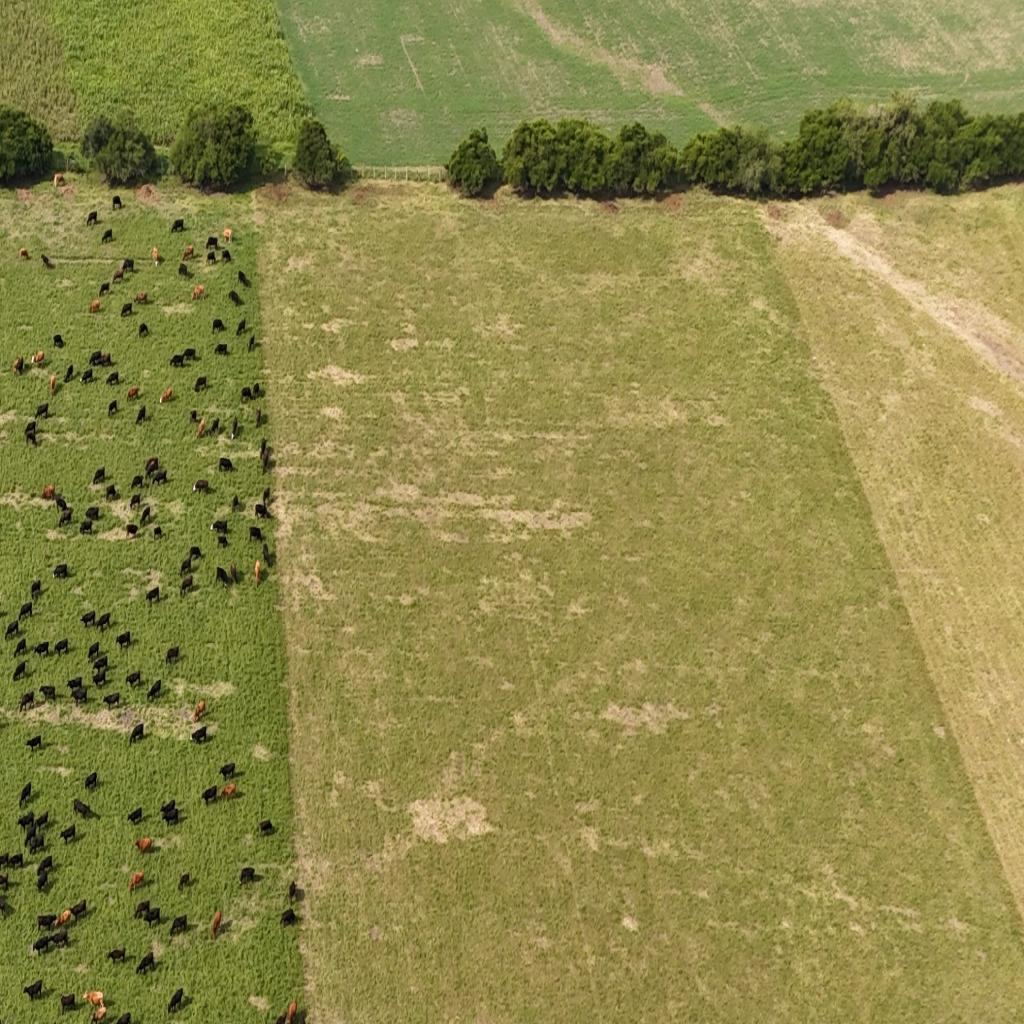cow: (136, 950, 156, 975), (82, 989, 110, 1006), (33, 934, 54, 956), (163, 807, 186, 827), (23, 979, 43, 1001), (52, 908, 72, 930), (50, 928, 70, 950), (169, 914, 187, 938), (28, 831, 45, 856), (73, 797, 92, 819), (168, 987, 184, 1013), (17, 810, 35, 833), (37, 912, 56, 933), (69, 898, 87, 920), (35, 870, 50, 896), (191, 724, 209, 745), (107, 945, 126, 964), (129, 722, 144, 746), (6, 851, 24, 871), (128, 871, 145, 892), (12, 660, 28, 682), (19, 691, 35, 713), (34, 810, 50, 832), (93, 666, 109, 688), (36, 853, 55, 871), (239, 866, 256, 886), (115, 631, 132, 651), (133, 900, 150, 920), (202, 785, 218, 806), (60, 992, 76, 1013), (145, 905, 161, 926), (60, 824, 76, 845), (94, 653, 110, 674), (147, 680, 162, 702), (150, 469, 168, 487), (32, 641, 50, 659), (140, 183, 158, 201), (135, 836, 152, 855), (280, 908, 296, 928), (160, 796, 180, 812), (40, 684, 56, 704), (71, 688, 87, 708), (145, 585, 160, 606), (84, 770, 99, 791), (193, 699, 206, 723), (216, 566, 230, 588), (219, 782, 236, 800), (103, 692, 120, 710), (210, 519, 228, 536), (67, 676, 84, 694), (219, 762, 235, 781), (126, 806, 142, 825), (96, 612, 111, 632), (54, 638, 69, 658), (6, 620, 20, 641), (13, 637, 27, 658), (211, 909, 221, 938), (91, 1007, 108, 1024), (26, 734, 42, 752), (20, 782, 32, 806), (79, 518, 95, 536), (80, 610, 96, 628), (180, 575, 193, 597), (126, 669, 141, 688), (166, 645, 180, 665), (58, 508, 72, 528), (180, 558, 194, 578), (286, 999, 297, 1024), (87, 641, 100, 662), (258, 819, 274, 836), (34, 403, 50, 420), (79, 368, 95, 385), (98, 350, 116, 365), (0, 898, 14, 917), (144, 457, 158, 476), (20, 601, 34, 620), (290, 1008, 306, 1024), (24, 432, 40, 448), (218, 457, 233, 474), (53, 563, 68, 580), (249, 526, 263, 544), (92, 468, 106, 486), (288, 879, 298, 903), (228, 290, 243, 306), (84, 506, 99, 522), (194, 376, 208, 393), (254, 503, 268, 520), (55, 496, 69, 513), (0, 848, 10, 871), (169, 354, 185, 368), (121, 258, 135, 274), (193, 479, 209, 493), (189, 546, 203, 562), (135, 406, 146, 426), (196, 417, 206, 439), (179, 872, 191, 890), (236, 320, 248, 338), (130, 493, 142, 511), (183, 348, 198, 362), (171, 218, 184, 234), (32, 351, 45, 367), (105, 485, 118, 501), (131, 475, 144, 491), (238, 271, 250, 288), (160, 387, 172, 404), (241, 386, 253, 403), (115, 1012, 132, 1024), (13, 357, 24, 375), (262, 543, 271, 565), (31, 580, 42, 598), (214, 343, 228, 357), (212, 319, 226, 333), (88, 351, 102, 365), (41, 254, 54, 269), (42, 485, 55, 500), (205, 236, 218, 251), (192, 285, 204, 301), (120, 302, 132, 318), (112, 268, 124, 284), (261, 450, 269, 474), (64, 364, 74, 383), (140, 506, 150, 525), (230, 561, 238, 584), (24, 422, 38, 435), (231, 416, 238, 442), (101, 229, 113, 244), (108, 399, 118, 417), (182, 245, 194, 260), (127, 386, 139, 401), (126, 523, 138, 538), (86, 211, 97, 227), (53, 334, 64, 350), (206, 250, 217, 266), (262, 487, 270, 509), (222, 227, 232, 244), (0, 871, 10, 888), (135, 291, 148, 304), (106, 373, 118, 387), (178, 263, 189, 278), (138, 323, 149, 338), (217, 534, 228, 549), (210, 417, 219, 435), (254, 560, 260, 586), (98, 283, 110, 296), (54, 173, 65, 187), (152, 246, 159, 268), (247, 334, 255, 352), (112, 196, 122, 210), (221, 250, 231, 264), (90, 300, 100, 314), (50, 373, 56, 396), (260, 438, 266, 461), (275, 1013, 287, 1024), (189, 410, 199, 423), (252, 383, 260, 399), (153, 526, 162, 540), (256, 407, 262, 428), (232, 494, 239, 512), (20, 248, 30, 260)
